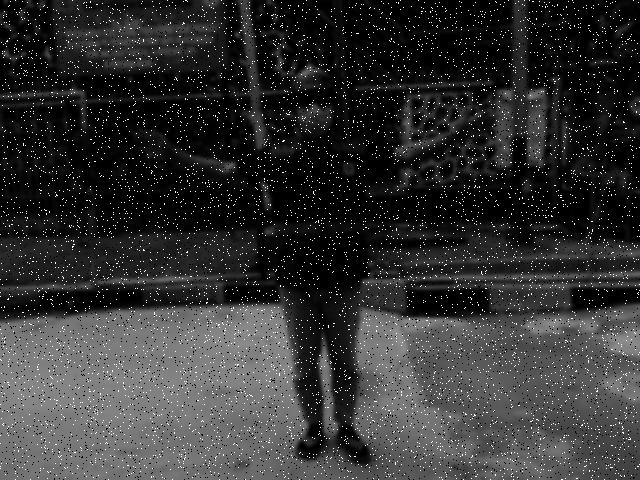helmet: (288, 62, 340, 98)
mask: (296, 105, 335, 136)
